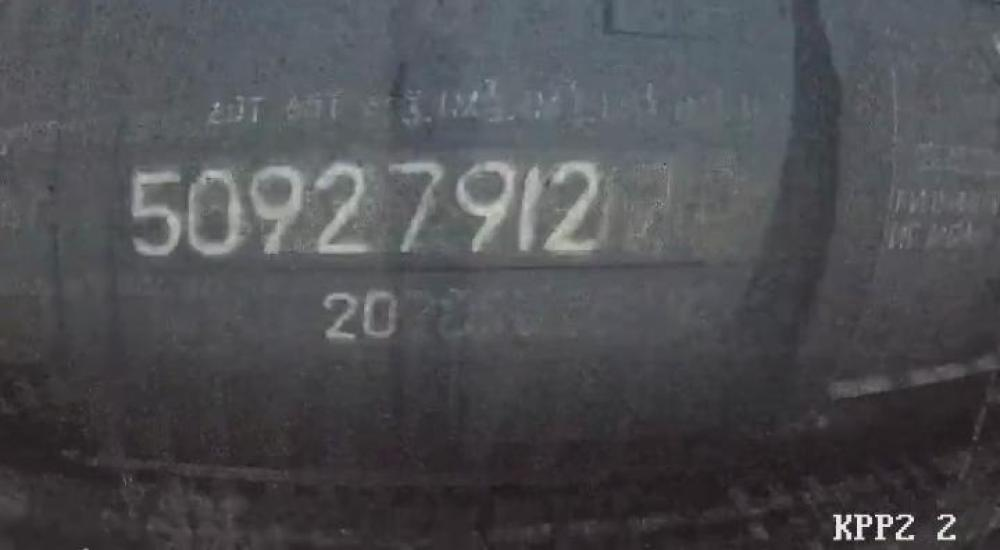Wagon-number: (124, 157, 614, 269)
